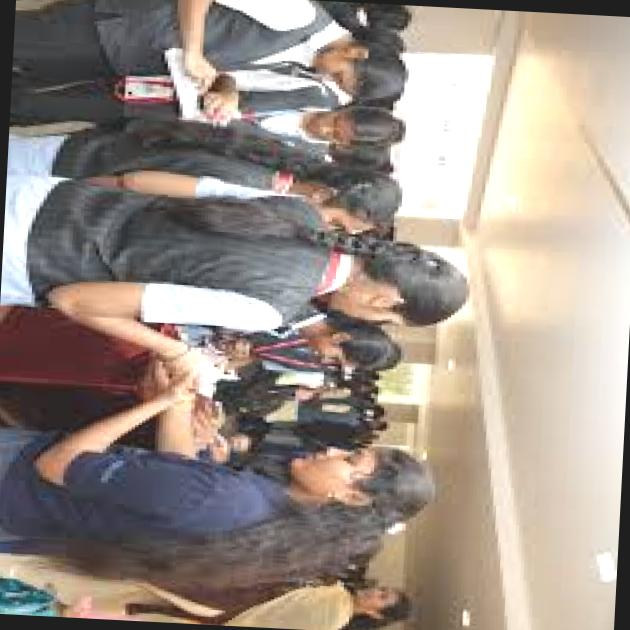there is a person: (22, 399, 450, 587), (15, 192, 482, 360), (85, 0, 406, 108), (107, 121, 404, 217), (115, 569, 437, 630)
